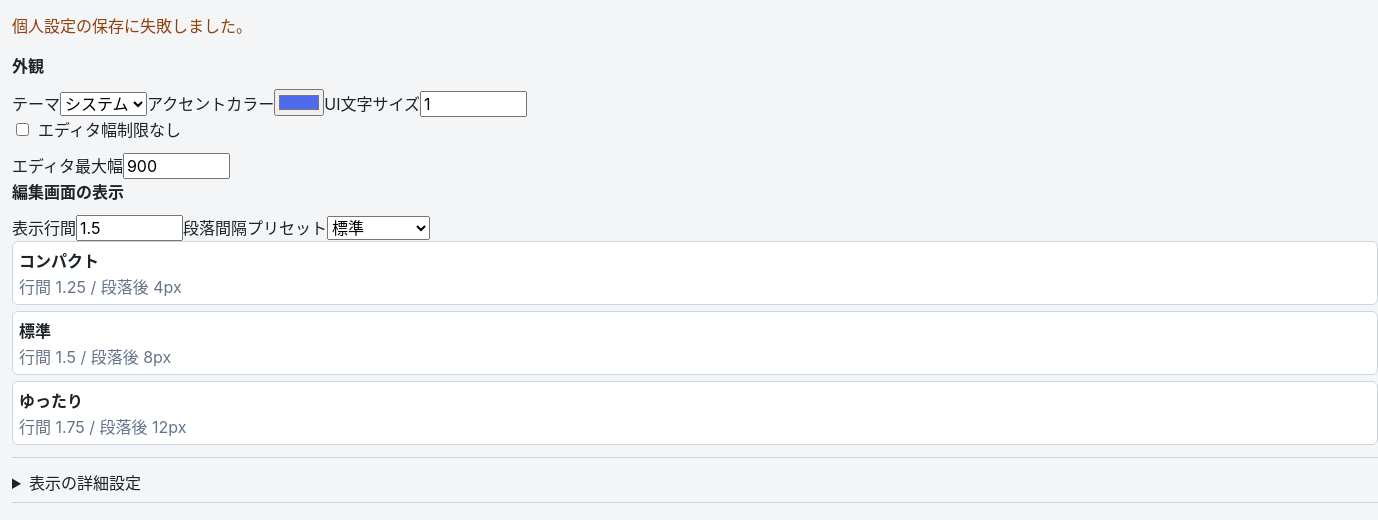
Scenario: AppearancePreferencesPanel › can switch editor width to unlimited and shows save failures
Click the checkbox labelled "エディタ幅制限なし" at (22, 129), box [16,122,29,136]
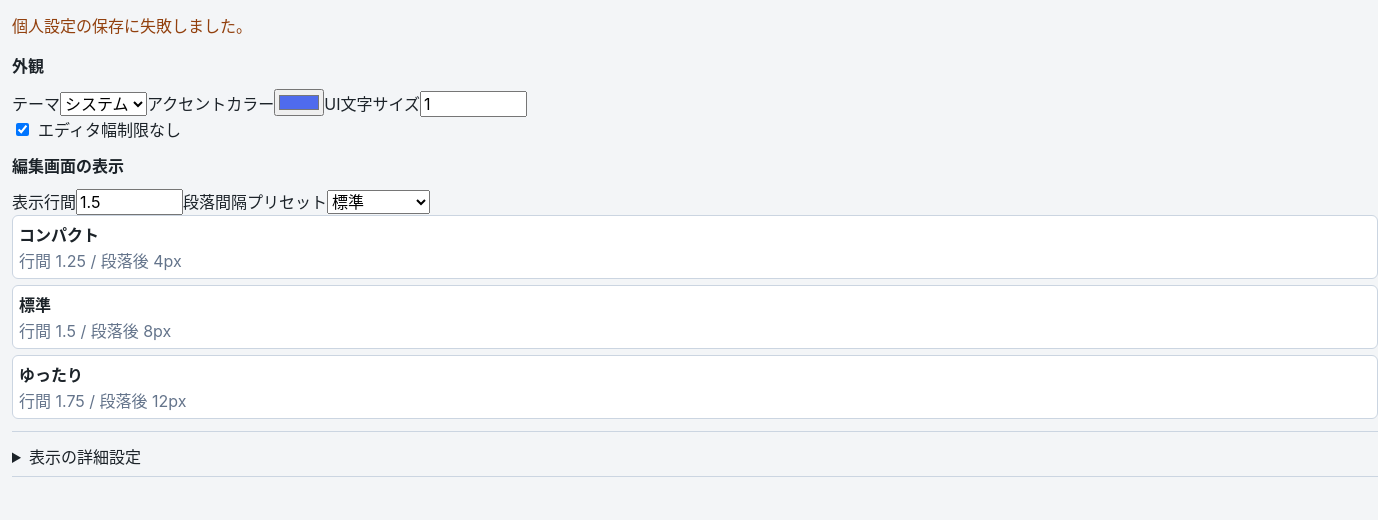
Expected: the text "個人設定の保存に失敗しました。" is shown, [12,16,252,36]
Expected: the label labelled "エディタ最大幅" is gone
